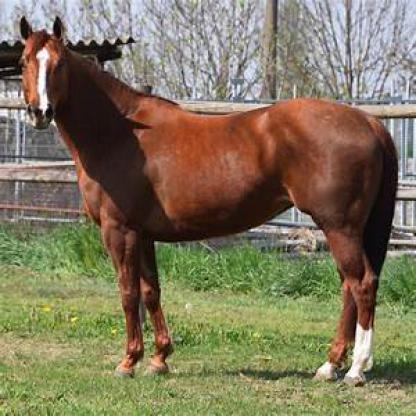horse: (18, 17, 398, 382)
